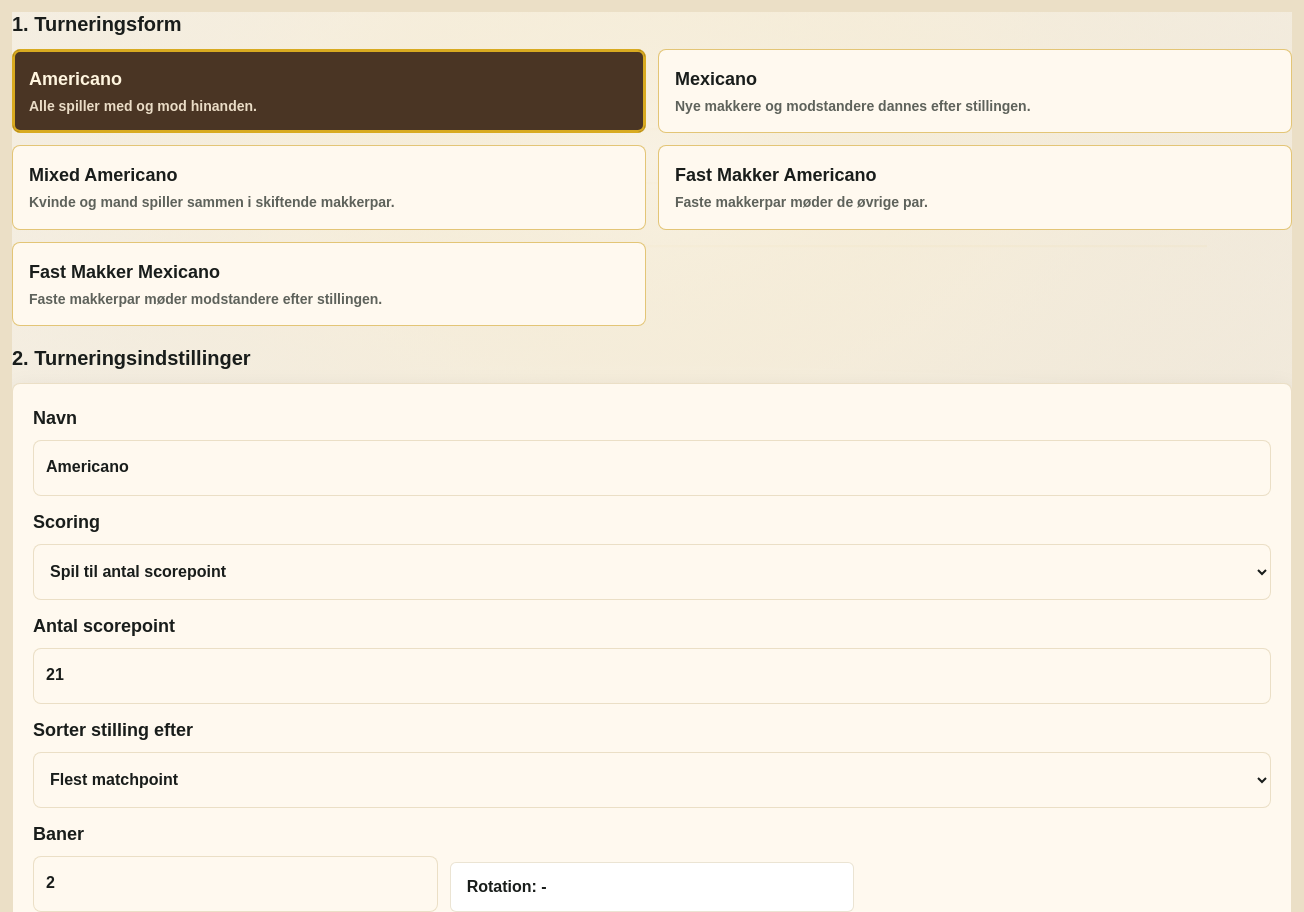
Test: tournament setup form › selects the format when clicking the description inside the card
Click the text "Nye makkere og modstandere dannes efter stillingen.": (853, 106) [675,98,1031,114]
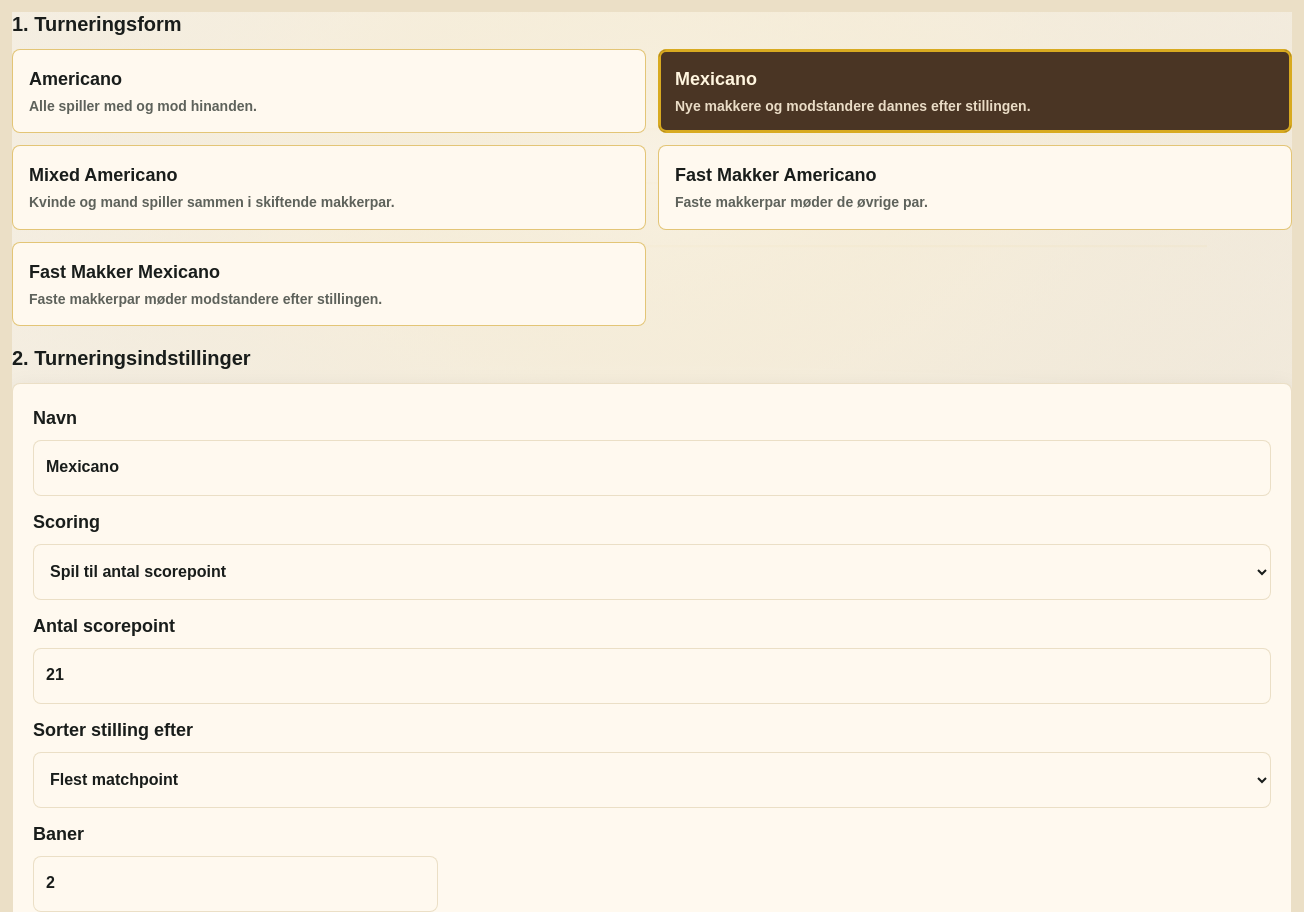
Now the field labelled "Navn" holds "Mexicano", box [33,440,1271,496]
